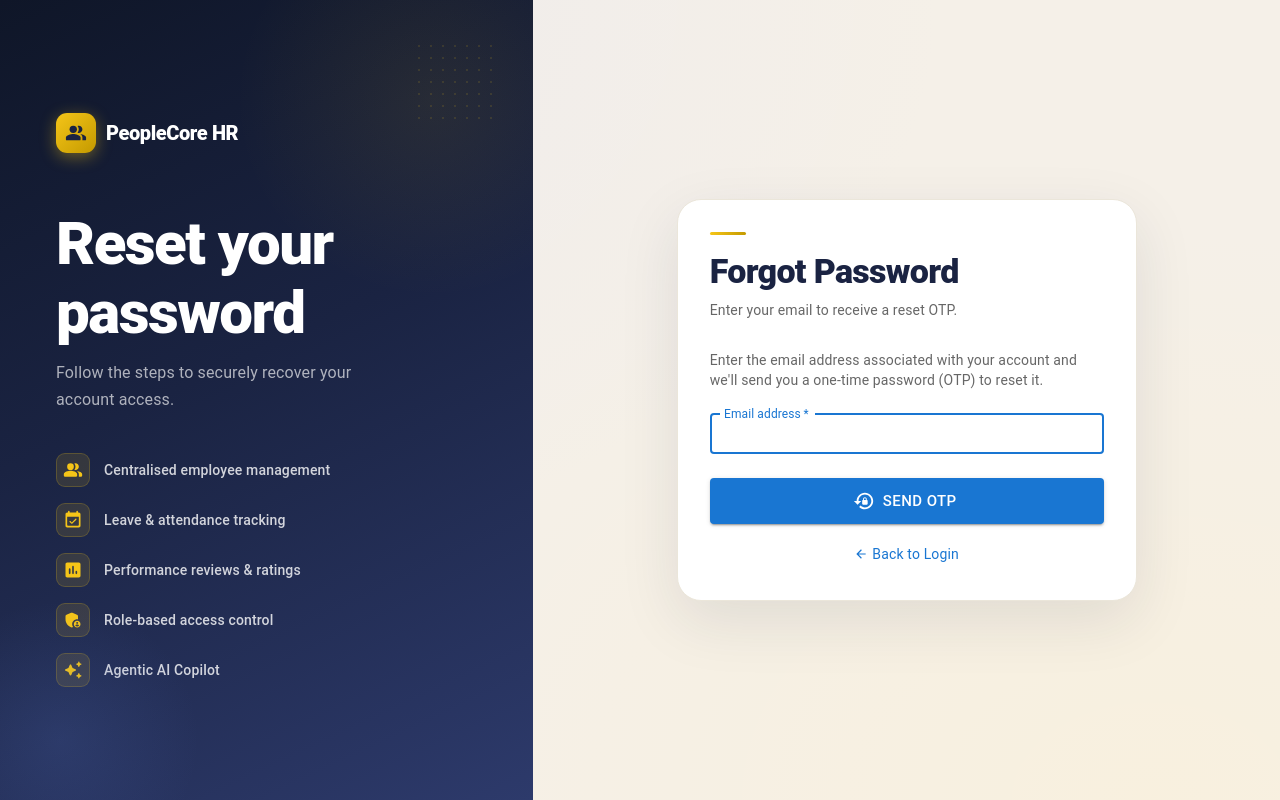
Test: ForgotPasswordPage › Email step › 10. shows validation error for invalid email format
The width and height of the screenshot is (1280, 800).
Type "not-an-email" into the field labelled "Email address *" at (907, 434), box [710,414,1104,454]
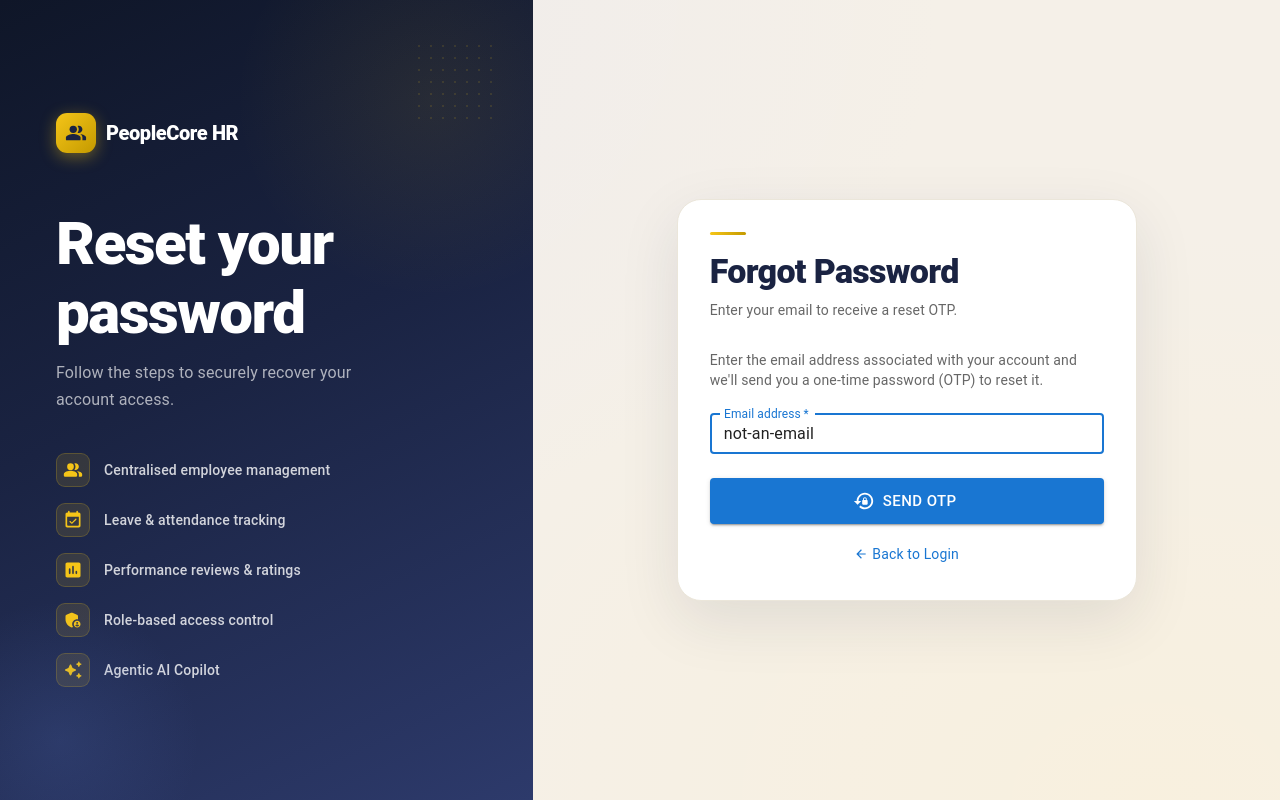
Click the button "Send OTP" at (907, 501), box [710,478,1104,524]
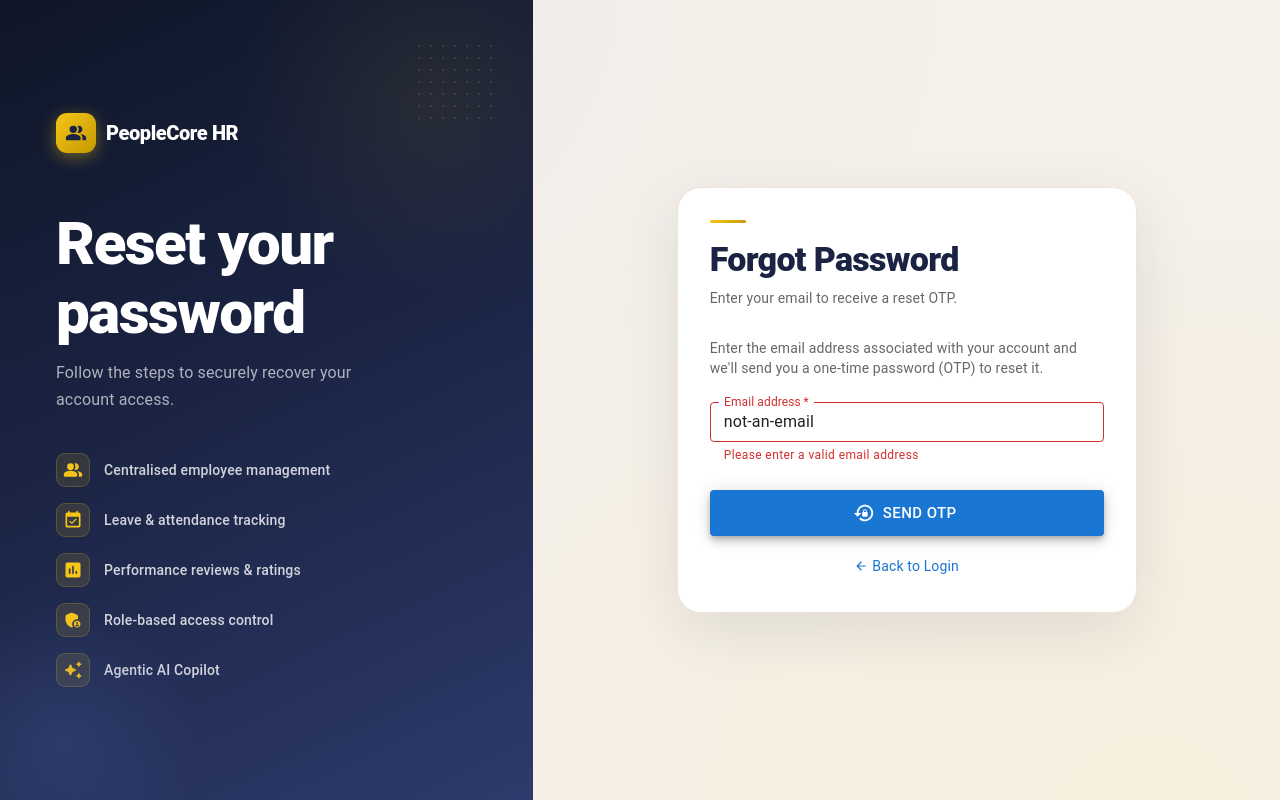
Now the text "Please enter a valid email address" is shown, box [724,448,919,462]
